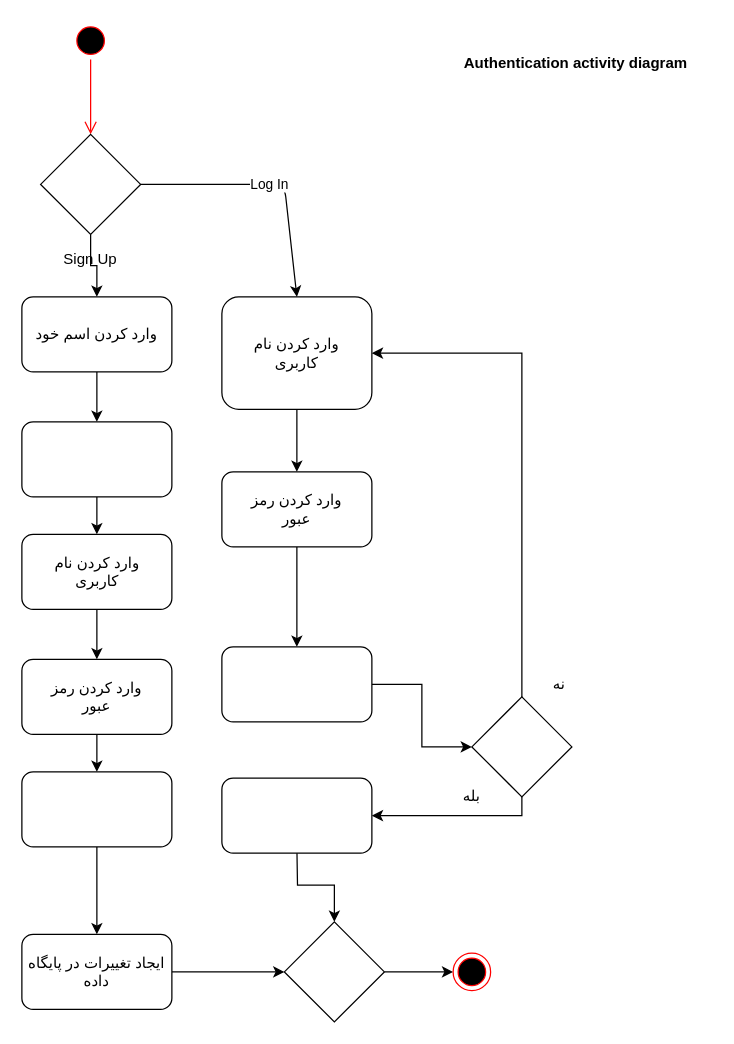
Image size: 734x1044. Some labels were removed from this diagram. Here are the shapes that lost their labels. From the top down, the centre of each, then its label:
[96,459]: وارد کردن ایمیل و شماره تلفن
[296,684]: بررسی صحت اطلاعات وارد شده با پایگاه
[96,809]: وارد کردن ادرس
[296,815]: ورود به سیستم
